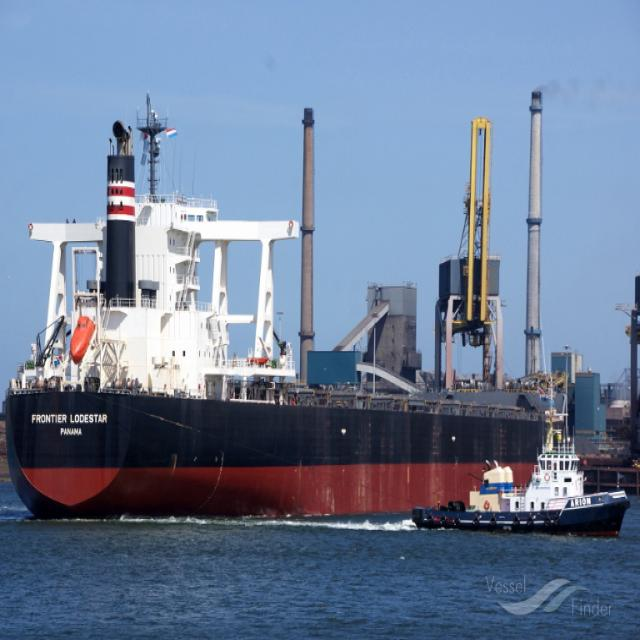Bulk Carrier: (7, 195, 595, 522)
tugboat: (412, 432, 626, 546)
